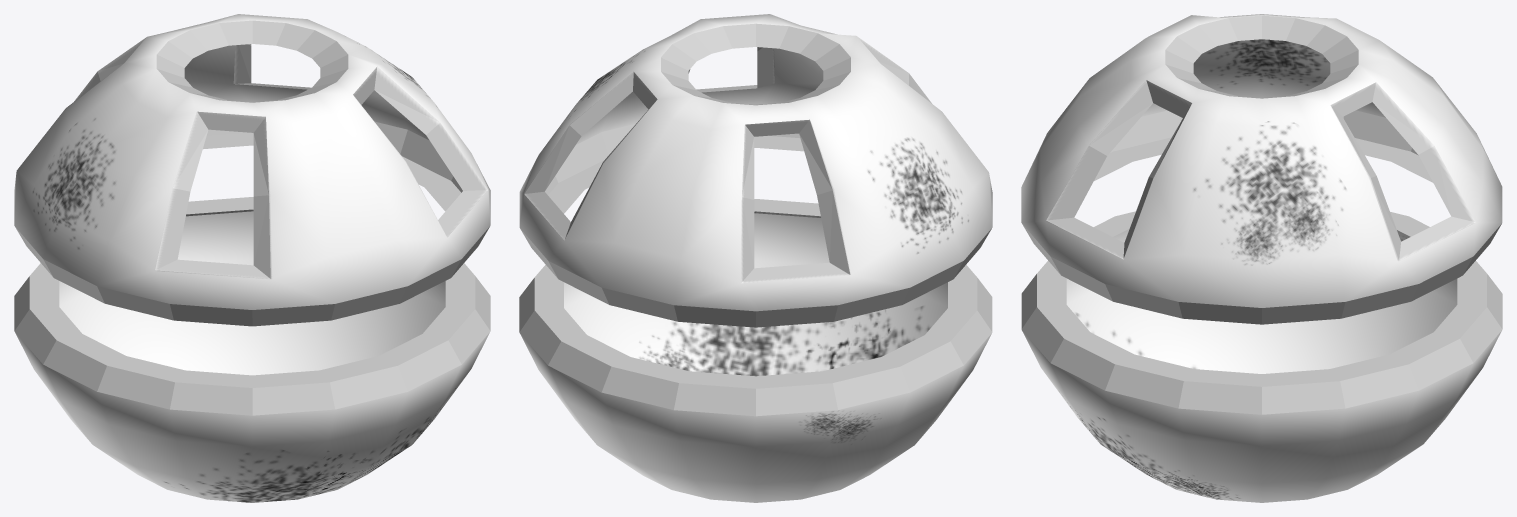
Rendered from o_lumen_002.fbx.
The picture shows the model from 3 angles, left to right: view 1: azimuth 30°, elevation 25°; view 2: azimuth 150°, elevation 25°; view 3: azimuth 270°, elevation 25°; orthographic projection.
Visible parts, largest first — view 1: lumen; view 2: lumen; view 3: lumen.
Part boxes in pixels (<box>): lumen: <box>14,14,490,502</box>; lumen: <box>519,14,992,502</box>; lumen: <box>1021,14,1502,502</box>.
Size of the model in its own units: 29.7 by 28.51 by 29.25.
